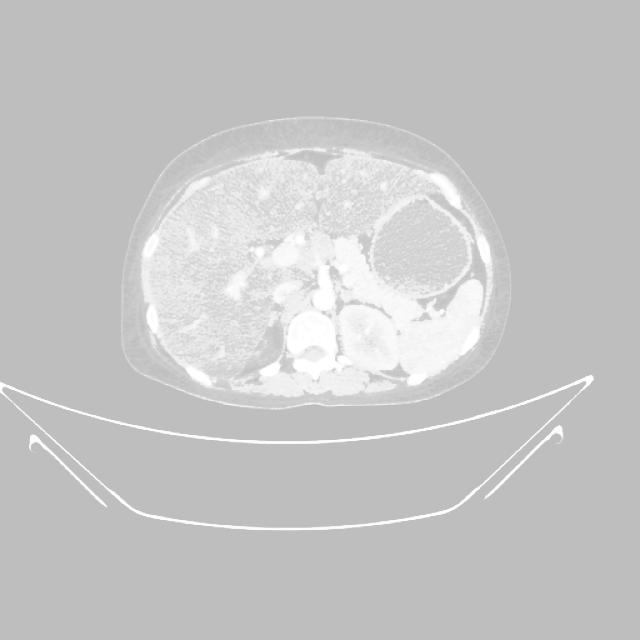NORMAL: (112, 123, 509, 406)
